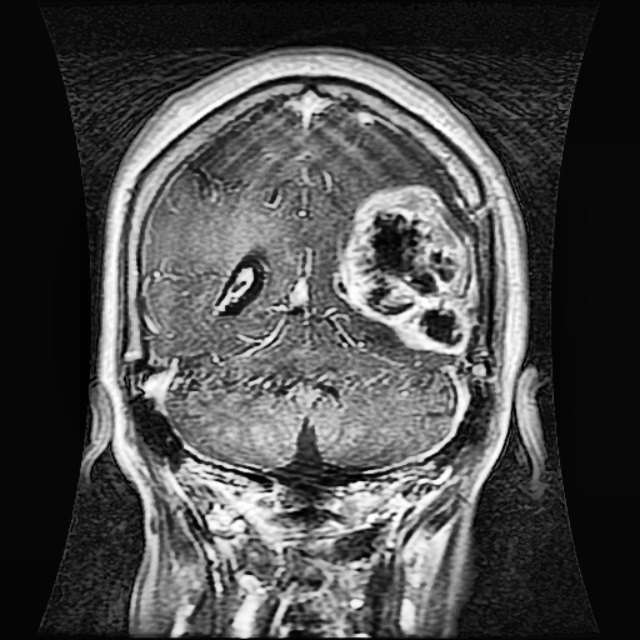Meningioma: (332, 183, 480, 354)
